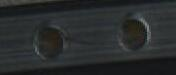joints: (112, 11, 151, 53), (31, 19, 69, 61)
